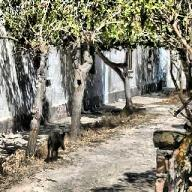boar: (45, 129, 67, 161)
